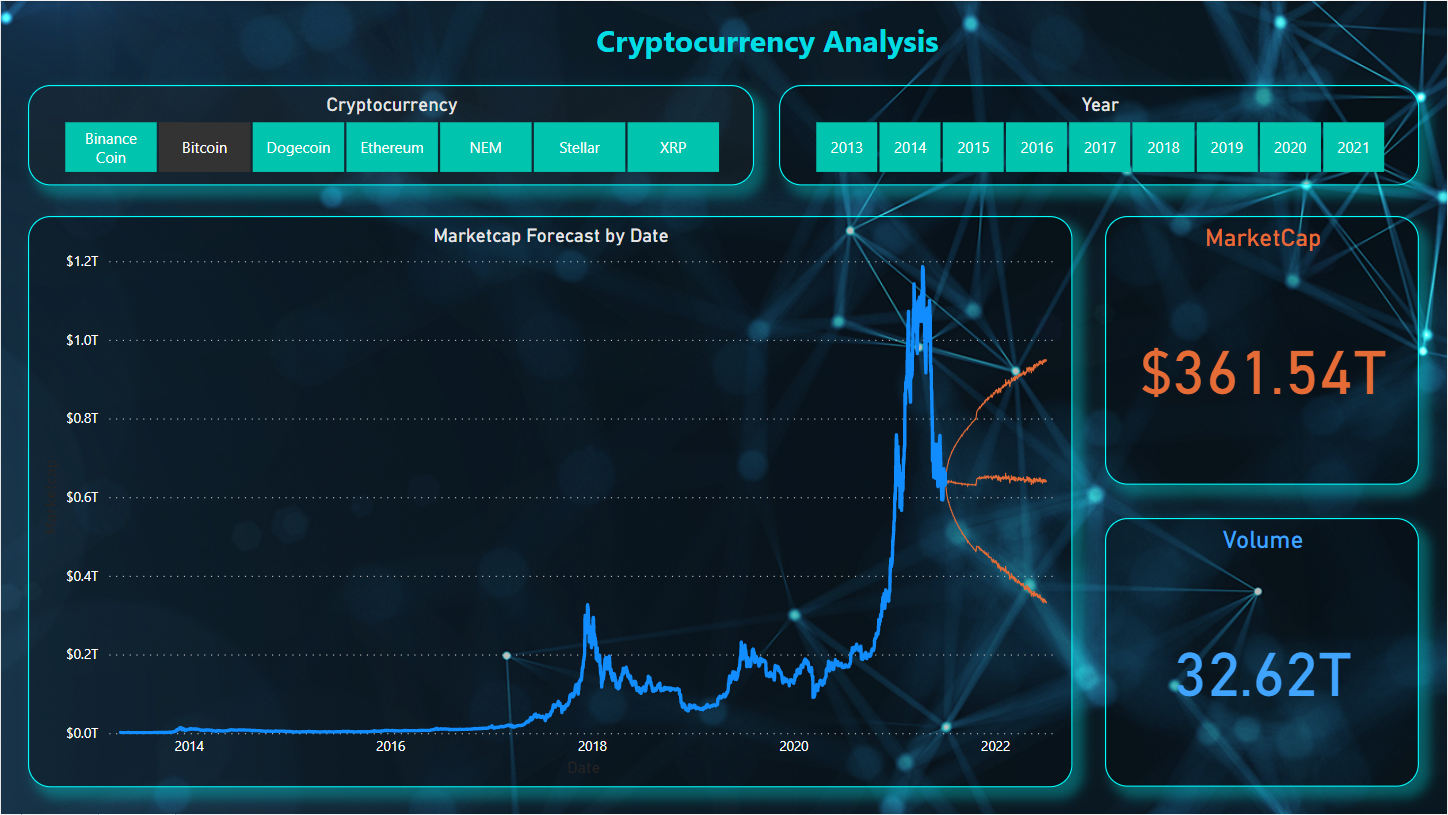

What the dashboard file says about the page in this screenshot:
{"tool":"powerbi","page":{"name":"Page 2","canvas":[1280,720],"ordinal":1},"visuals":[{"type":"slicer","title":"Cryptocurrency","fields":{"Values":["RawDataset1.Name"]},"box":[23.9,74.4,643,88.6],"z":0},{"type":"slicer","title":"Year","fields":{"Values":["RawDataset1.Year"]},"box":[689,74.4,566.8,88.6],"z":1000},{"type":"lineChart","title":"Marketcap Forecast by Date","fields":{"Y":["Sum(RawDataset1.Marketcap)"],"Category":["RawDataset1.Date"]},"box":[23.9,190.4,924.6,505.7],"z":2000},{"type":"card","title":"MarketCap","fields":{"Values":["Sum(RawDataset1.Marketcap)"]},"box":[977.7,190.4,278.1,238],"z":3000},{"type":"textbox","box":[490.6,11.5,376.4,47.8],"z":4000},{"type":"card","title":"Volume","fields":{"Values":["Sum(RawDataset1.Volume)"]},"box":[977.7,457.9,278.1,238.2],"z":5000},{"type":"shape","box":[1202.7,21.3,53.1,28.3],"z":6000}]}

Visuals, with their boxes in screenshot pixels (x1, y1, x2, y2), scaled from the page's 1280x720 canvas onto the 1448x815 screenshot:
"Cryptocurrency" slicer: bbox=(27, 84, 754, 185)
"Year" slicer: bbox=(779, 84, 1421, 185)
"Marketcap Forecast by Date" lineChart: bbox=(27, 216, 1073, 788)
"MarketCap" card: bbox=(1106, 216, 1421, 485)
textbox: bbox=(555, 13, 981, 67)
"Volume" card: bbox=(1106, 518, 1421, 788)
shape: bbox=(1361, 24, 1421, 56)
